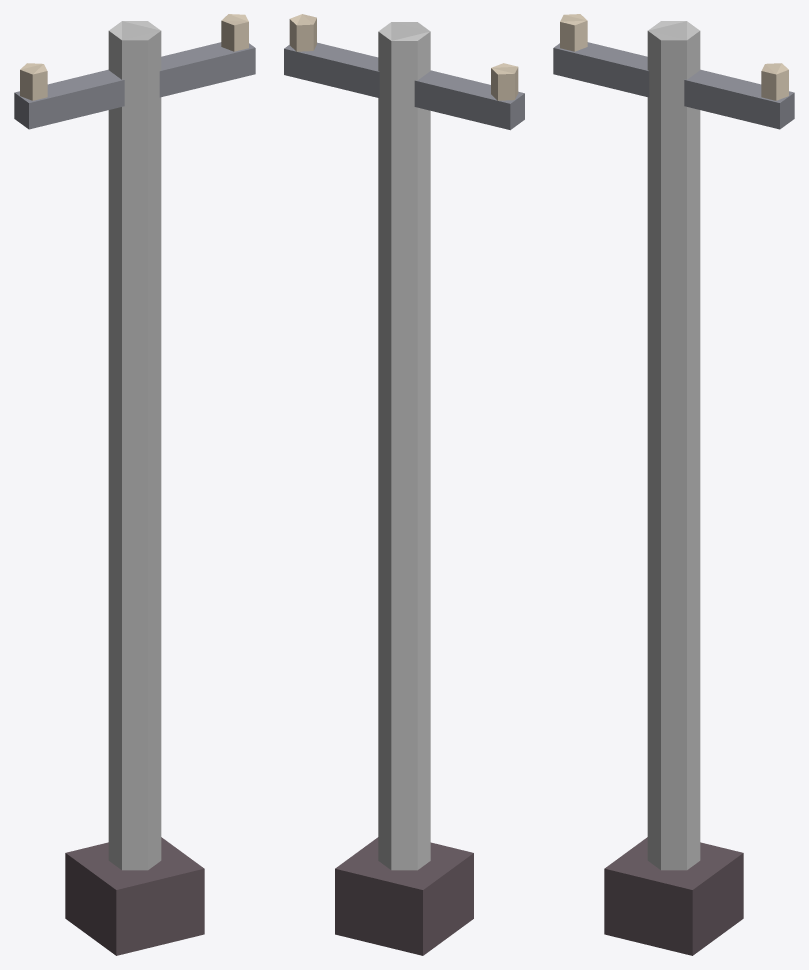
Rendered from Tech_Pole.fbx.
The picture shows the model from 3 angles, left to right: view 1: azimuth 30°, elevation 25°; view 2: azimuth 150°, elevation 25°; view 3: azimuth 330°, elevation 25°; orthographic projection.
Parts seen in each view (by area): view 1: Tech_Pole; view 2: Tech_Pole; view 3: Tech_Pole.
Part boxes in pixels (x1=…): Tech_Pole: x1=14, y1=14, x2=255, y2=955; Tech_Pole: x1=284, y1=14, x2=524, y2=955; Tech_Pole: x1=553, y1=14, x2=794, y2=955.
Size of the model in its own units: 0.9 by 3.4 by 0.35.
